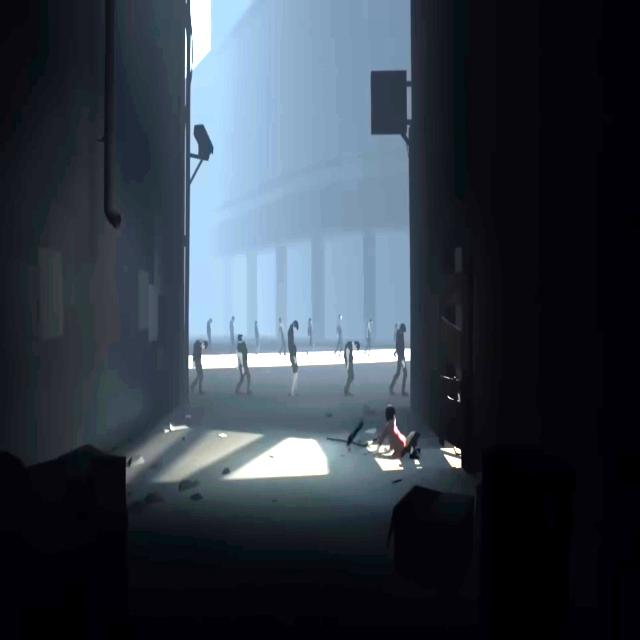boy: (372, 404, 421, 460)
zombie: (390, 323, 408, 395), (235, 334, 253, 395), (191, 339, 209, 396), (344, 340, 360, 396), (288, 321, 299, 396), (334, 314, 342, 356), (364, 319, 373, 356), (306, 318, 314, 356), (279, 318, 286, 356), (255, 320, 261, 354), (207, 318, 212, 352), (230, 316, 234, 346)
